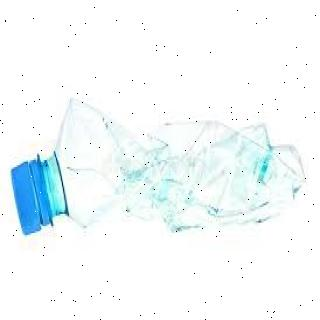Plastic-bottle: (9, 95, 309, 237)
